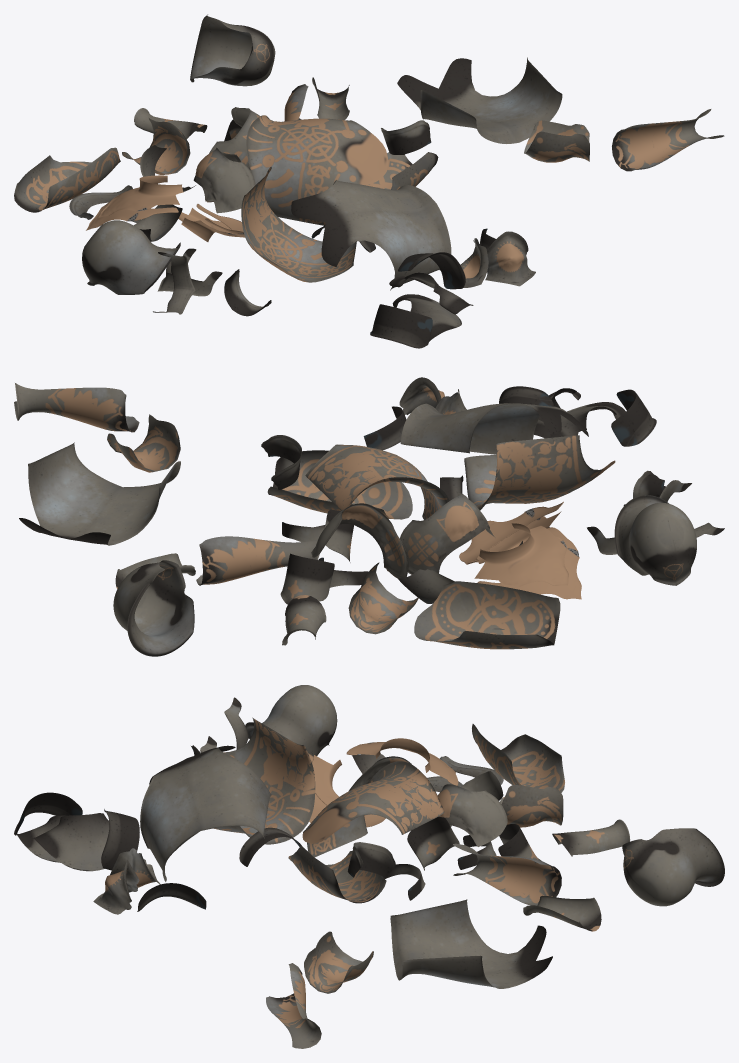
Rendered from SM_KnightPileBig.fbx.
3 views of the same model, one above another, from view 1: azimuth 30°, elevation 25°; view 2: azimuth 150°, elevation 25°; view 3: azimuth 270°, elevation 25° (orthographic). The views are drawn at different scales.
Parts seen in each view (by area): view 1: SM_KnightPileBig_LOD0; view 2: SM_KnightPileBig_LOD0; view 3: SM_KnightPileBig_LOD0.
Boxes of the visible parts, left/top/right/bottom form: SM_KnightPileBig_LOD0: left=14, top=14, right=724, bottom=348; SM_KnightPileBig_LOD0: left=14, top=377, right=724, bottom=656; SM_KnightPileBig_LOD0: left=14, top=685, right=724, bottom=1048.
Bounding box in the file's own units: 282 × 267 × 36.93.
Materials: 1 (1 with a texture image).
